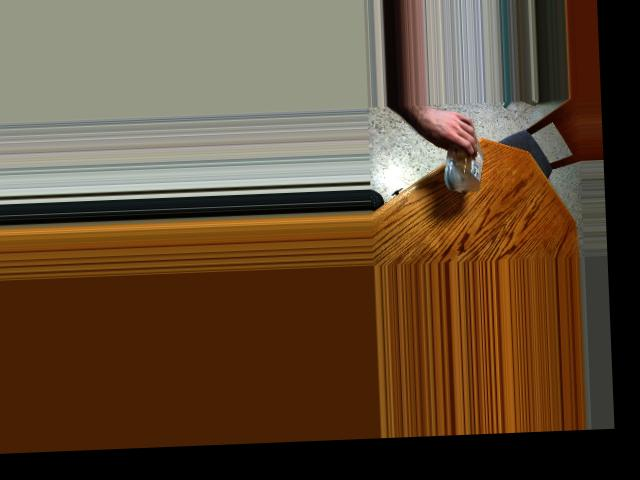cheese: (436, 124, 488, 184)
